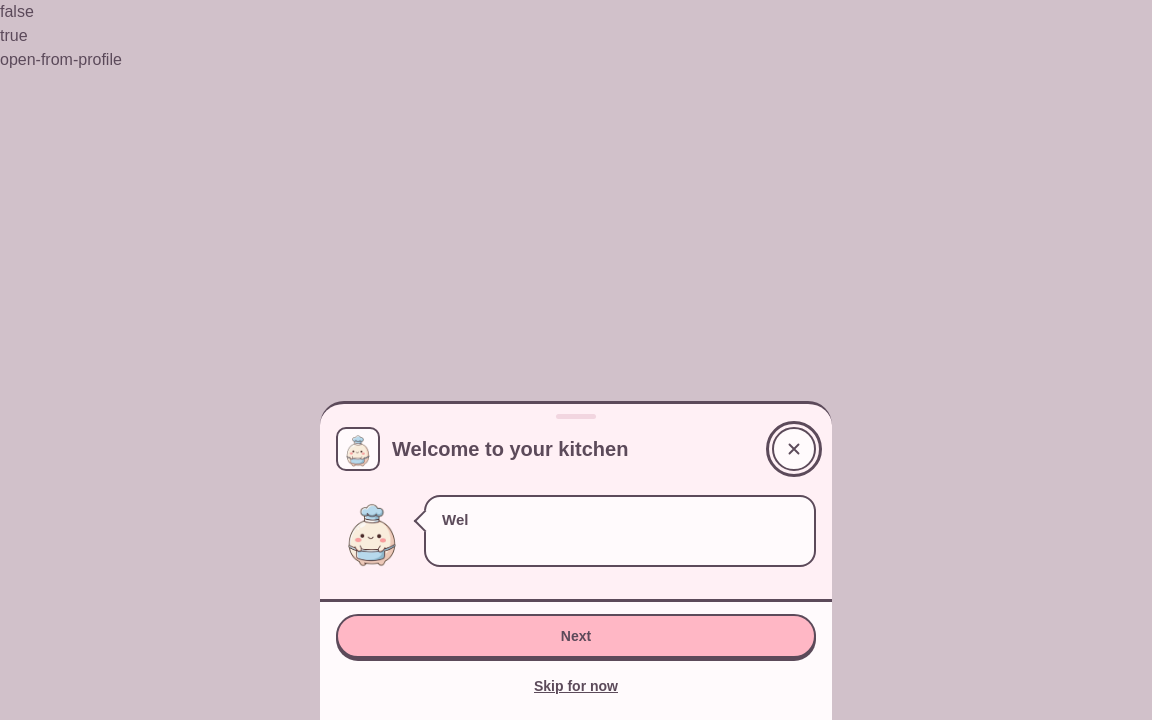
Scenario: skipping › adds nothing and sets nothing, but marks the step seen and starts the tour
Expected: the dialog with test id "staples-step" is shown, [320, 401, 832, 719]
Click the button "Next": (576,636) [336, 614, 816, 658]
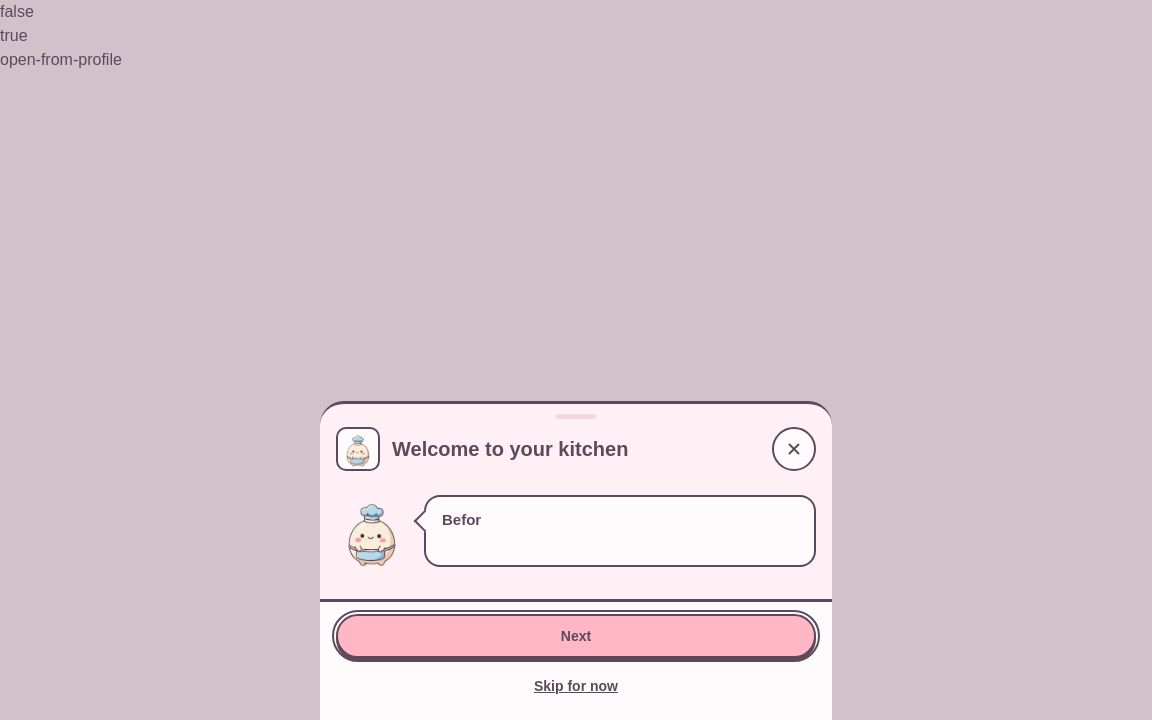
Click the button "Next": (576,636) [336, 614, 816, 658]
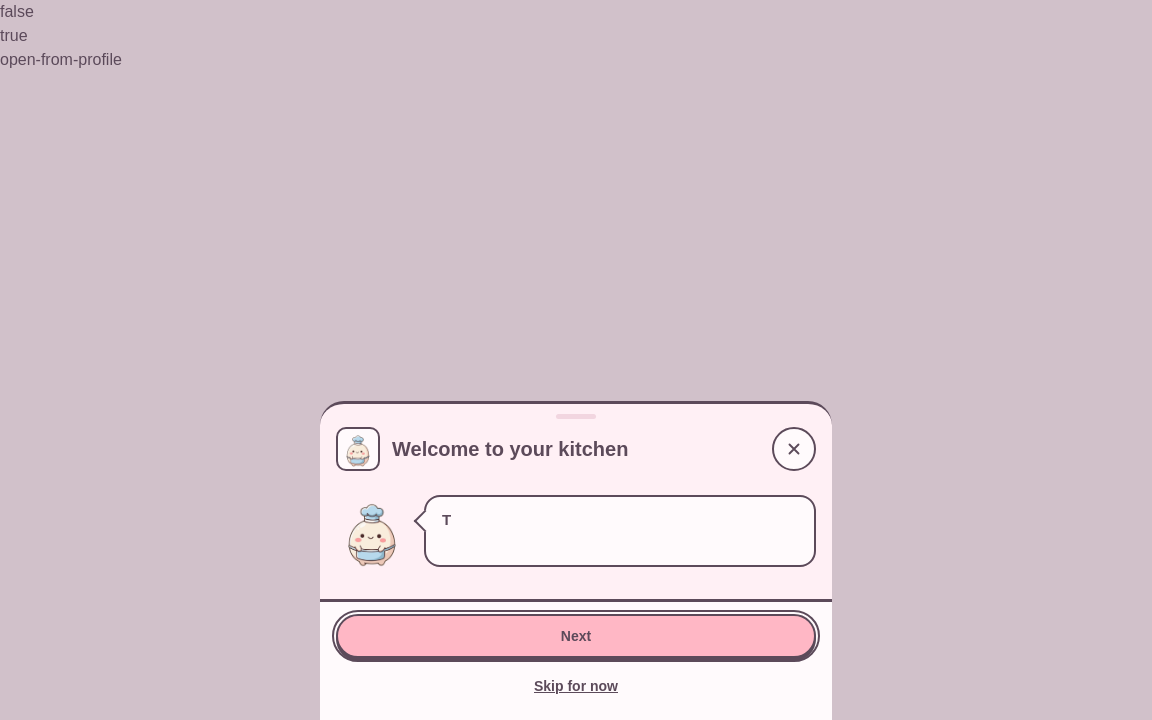
Click the button "Next": (576,636) [336, 614, 816, 658]
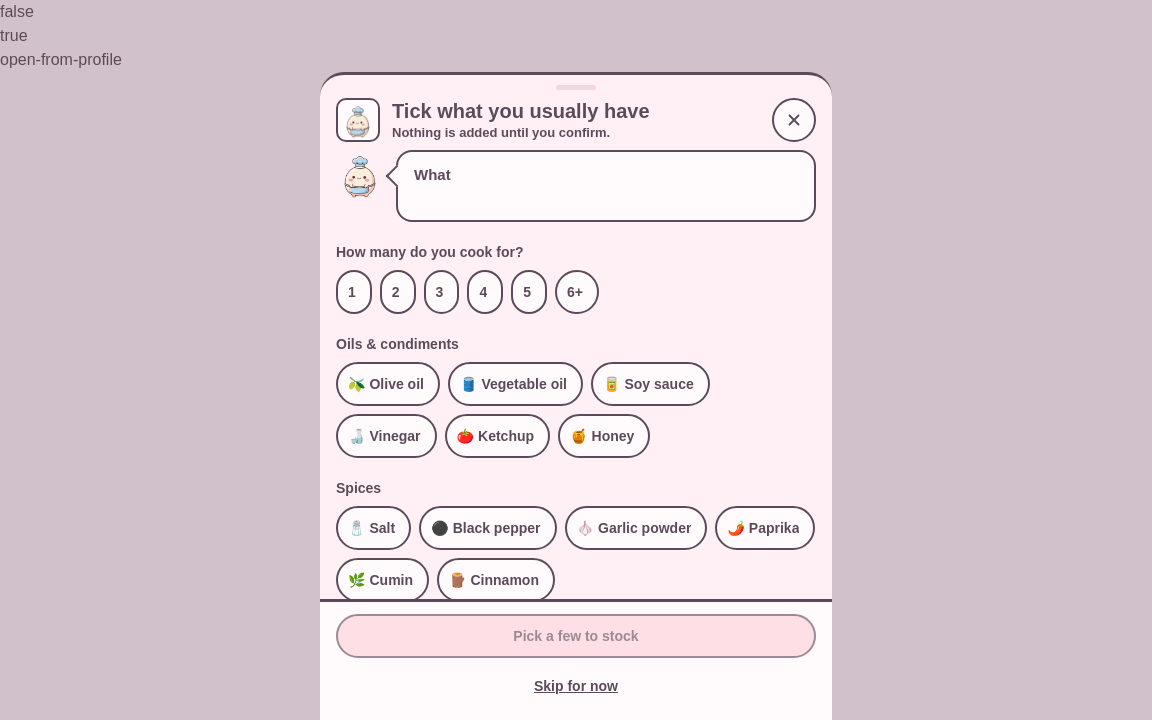
Click the button "🧂 Salt": (374,528) [336, 506, 411, 550]
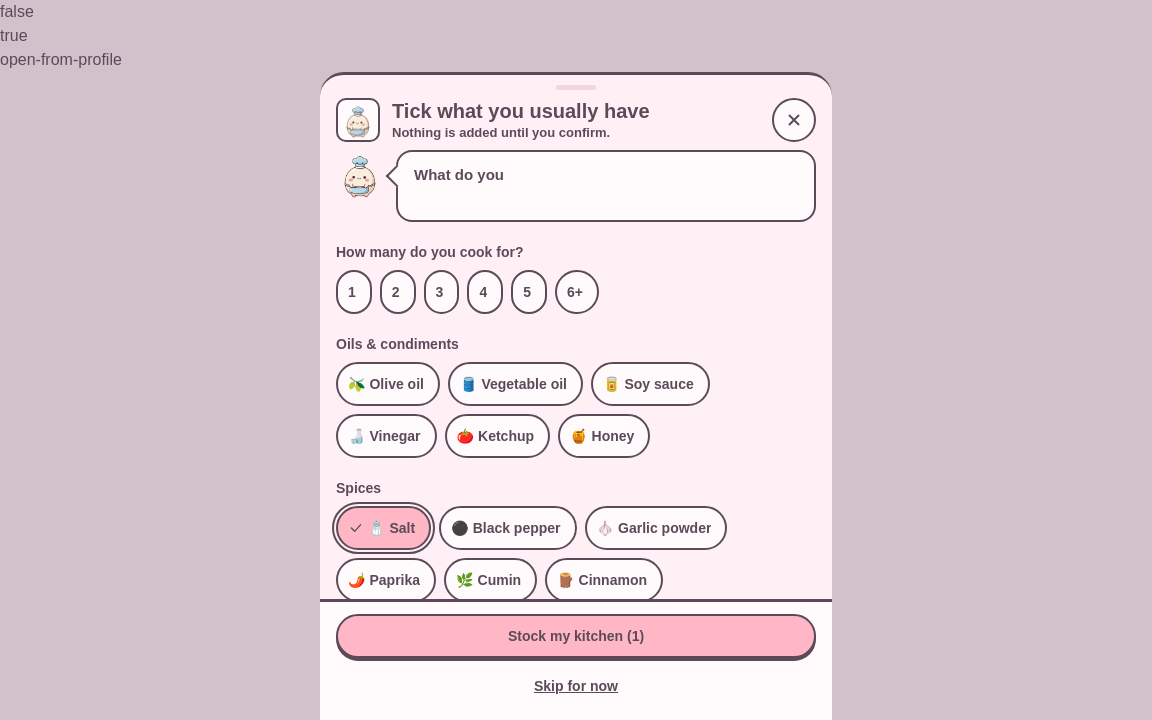
Click the button named "3 people": (442,292) [424, 270, 459, 314]
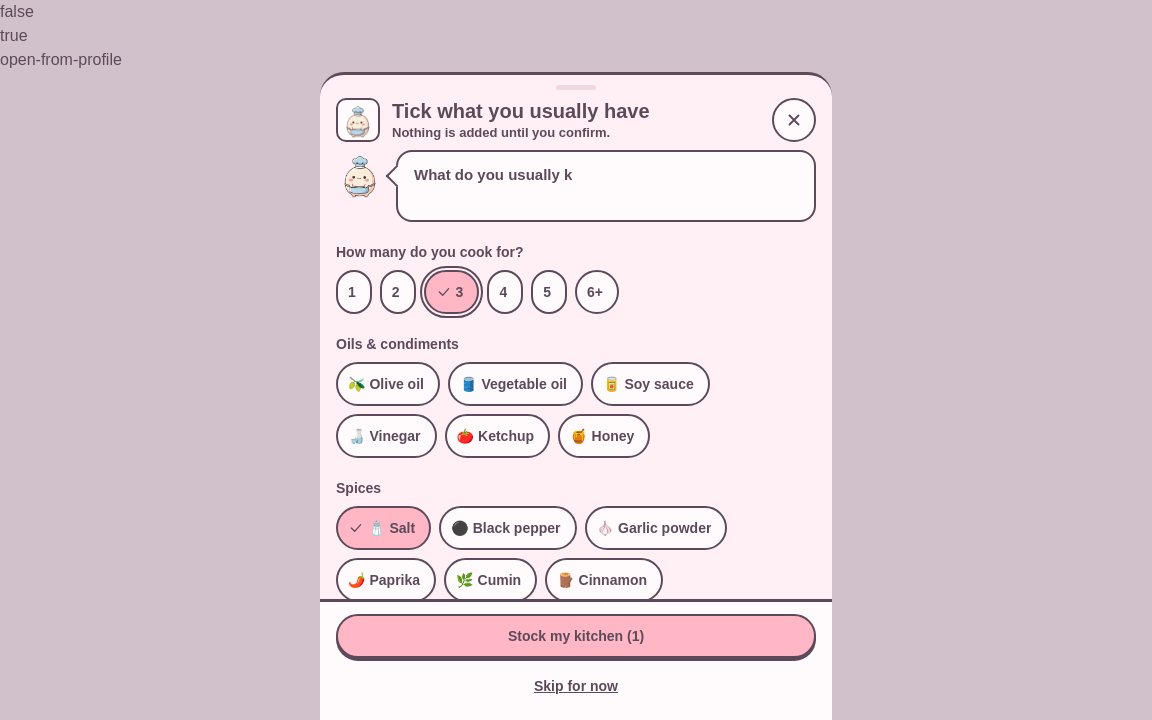
Click the button "Skip for now": (576,686) [522, 664, 630, 708]
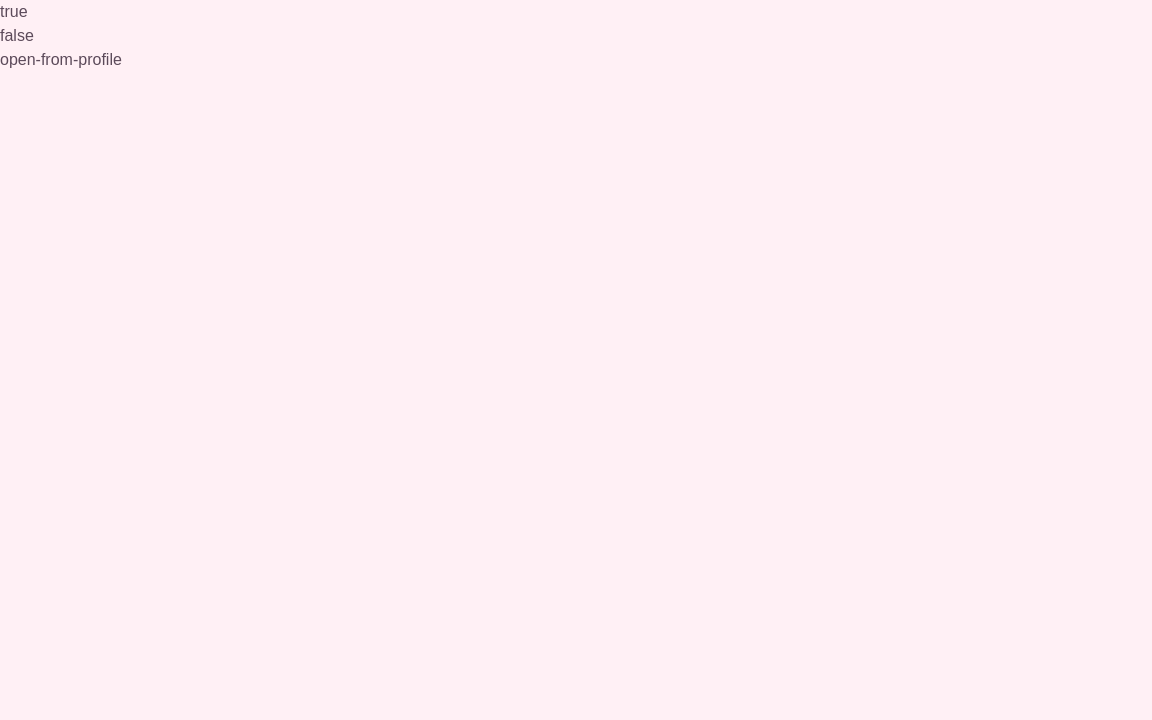
Expected: the text with test id "staples-open" reads "false", [0, 27, 34, 44]
Expected: the text with test id "tour-open" reads "true", [0, 3, 28, 20]
